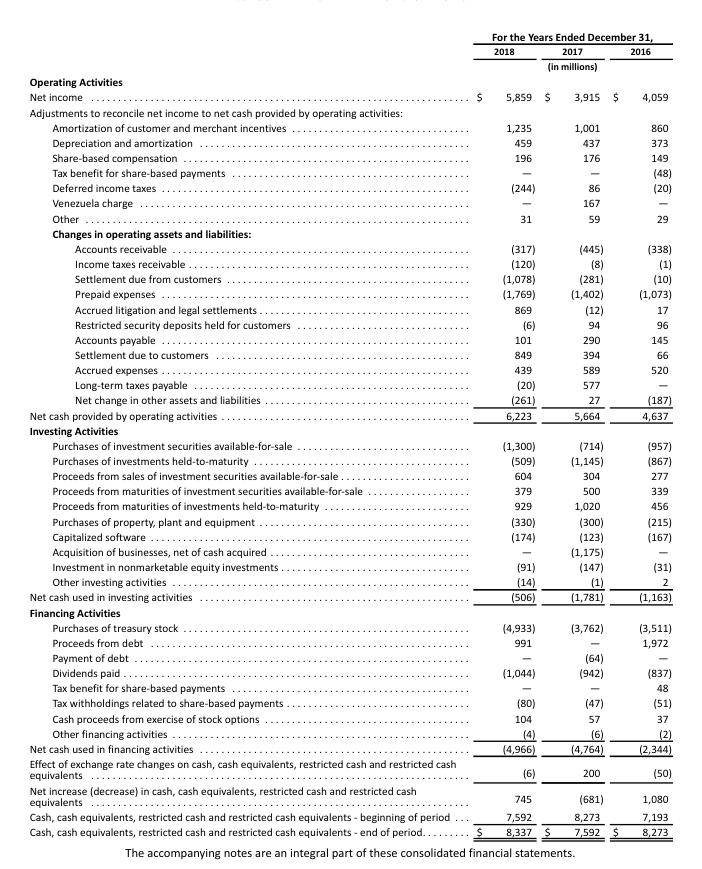table: (28, 28, 670, 838)
table column: (28, 28, 465, 838), (465, 28, 539, 838), (539, 28, 607, 838), (607, 28, 670, 838)
table column header: (28, 28, 670, 73)
table projected row header: (28, 73, 670, 88), (28, 104, 670, 119), (28, 225, 670, 240), (28, 422, 670, 437), (28, 604, 670, 619)
table row: (28, 755, 670, 782), (28, 782, 670, 808), (28, 88, 670, 104), (28, 179, 670, 195), (28, 285, 670, 301), (28, 391, 670, 407), (28, 482, 670, 498), (28, 588, 670, 604), (28, 679, 670, 695), (28, 28, 670, 43), (28, 43, 670, 58), (28, 58, 670, 73), (28, 73, 670, 88), (28, 104, 670, 119), (28, 119, 670, 134), (28, 134, 670, 149), (28, 149, 670, 164), (28, 164, 670, 179), (28, 195, 670, 210), (28, 210, 670, 225), (28, 225, 670, 240), (28, 240, 670, 255), (28, 255, 670, 270), (28, 270, 670, 285), (28, 301, 670, 316), (28, 316, 670, 331), (28, 331, 670, 346), (28, 346, 670, 361), (28, 361, 670, 376), (28, 376, 670, 391), (28, 407, 670, 422), (28, 422, 670, 437), (28, 437, 670, 452), (28, 452, 670, 467), (28, 467, 670, 482), (28, 498, 670, 513), (28, 513, 670, 528), (28, 528, 670, 543), (28, 543, 670, 558), (28, 558, 670, 573), (28, 573, 670, 588), (28, 604, 670, 619), (28, 619, 670, 634), (28, 634, 670, 649), (28, 649, 670, 664), (28, 664, 670, 679), (28, 695, 670, 710), (28, 710, 670, 725), (28, 725, 670, 740), (28, 740, 670, 755), (28, 808, 670, 823), (28, 823, 670, 838)
table spanning cell: (465, 28, 670, 43), (465, 58, 670, 73)
